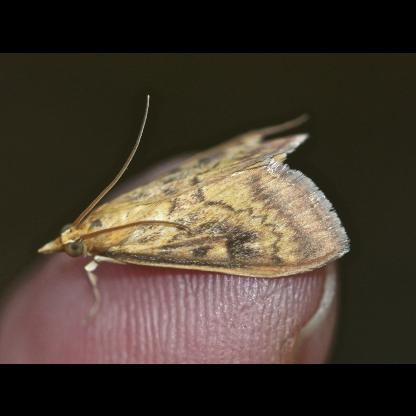Asian Corn Borer Moth: (33, 92, 353, 328)
